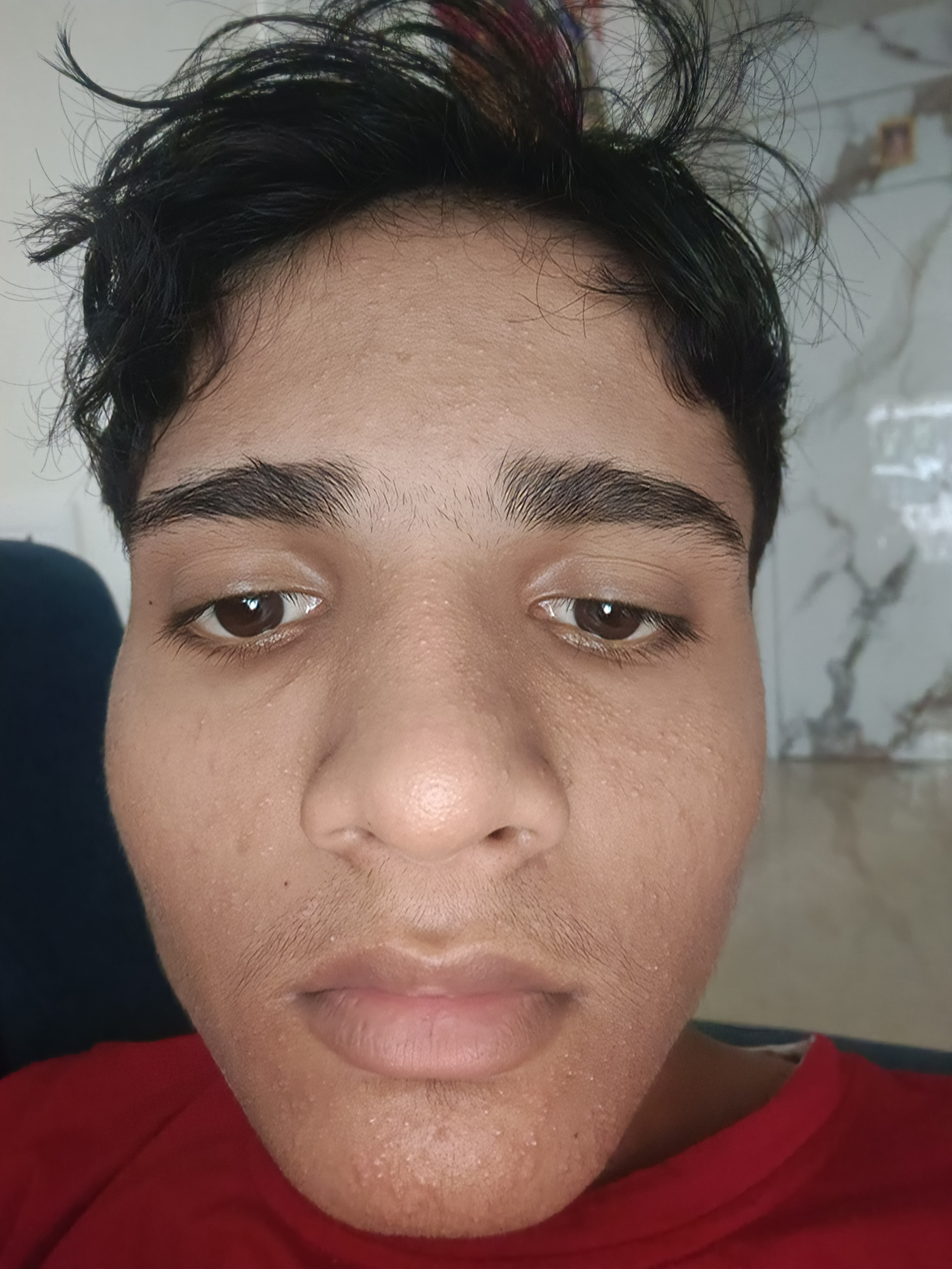closed_comedone: (362, 1155, 408, 1192), (410, 574, 455, 611), (271, 761, 307, 788), (560, 1155, 593, 1180), (518, 333, 540, 354), (416, 633, 433, 659), (627, 780, 647, 801)
